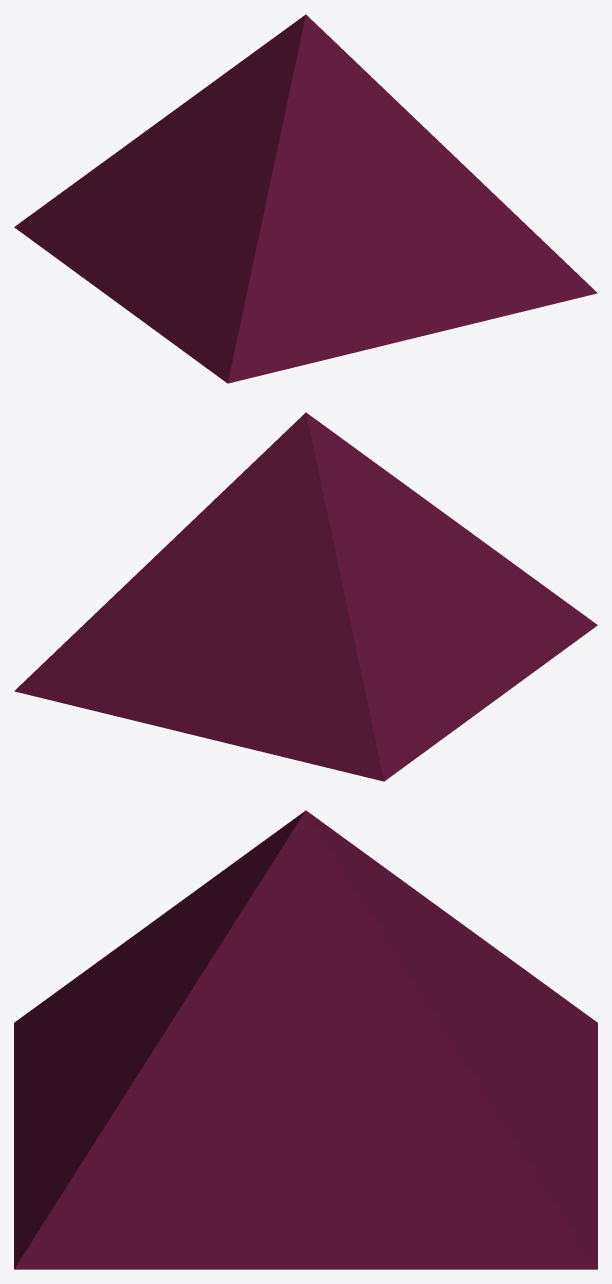
The picture shows the model from 3 angles, top to bottom: view 1: azimuth 30°, elevation 25°; view 2: azimuth 150°, elevation 25°; view 3: azimuth 270°, elevation 25°; orthographic projection. The views are drawn at different scales.
Visible parts, largest first — view 1: Pyramid; view 2: Pyramid; view 3: Pyramid.
Boxes of the visible parts, x1,y1,x2,y2 form: Pyramid: (14,14,597,383); Pyramid: (14,412,597,781); Pyramid: (14,810,597,1269).
Size of the model in its own units: 90.55 by 57.48 by 90.55.
